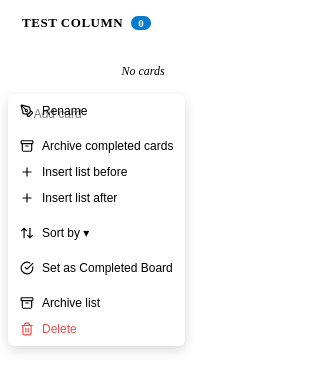
Test case: Column › shows inline edit for insert after
Note: Click "Insert list after"
Click the button "Insert list after" at (97, 198), box [8, 185, 185, 211]
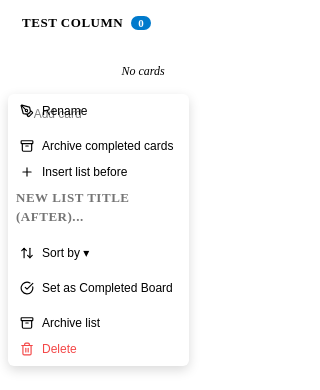
Result: the text box with placeholder "New list title (after)..." is shown at [8, 185, 189, 231]
